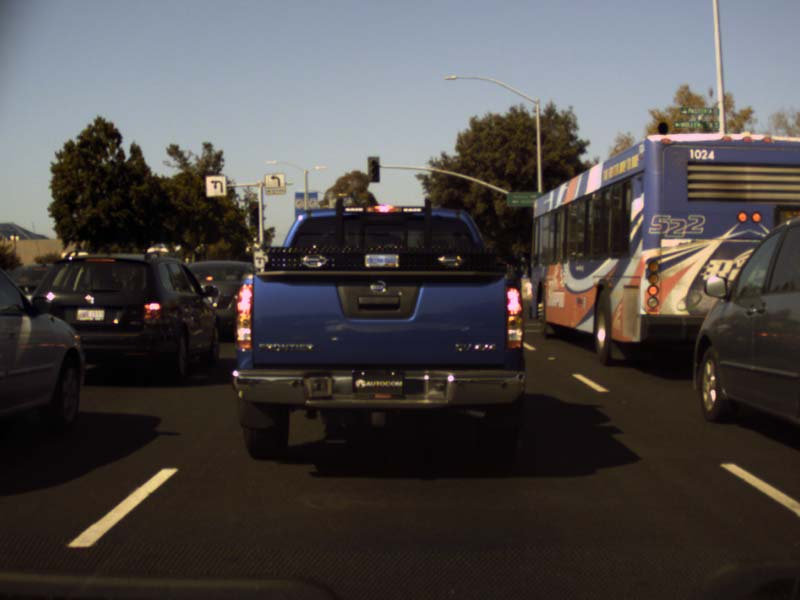Red: (249, 202, 258, 224)
